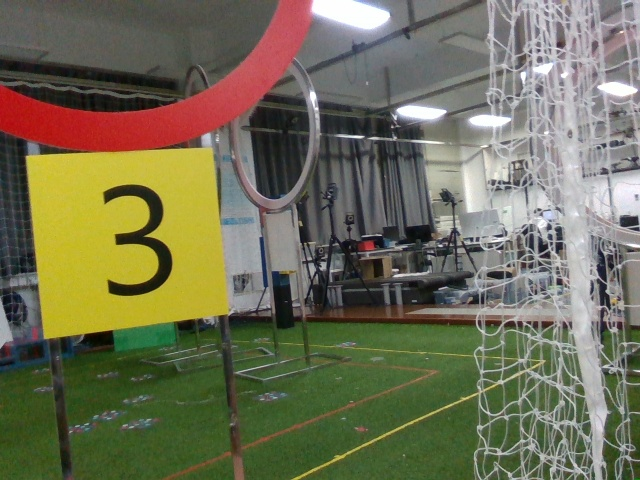target: (36, 158, 222, 318)
